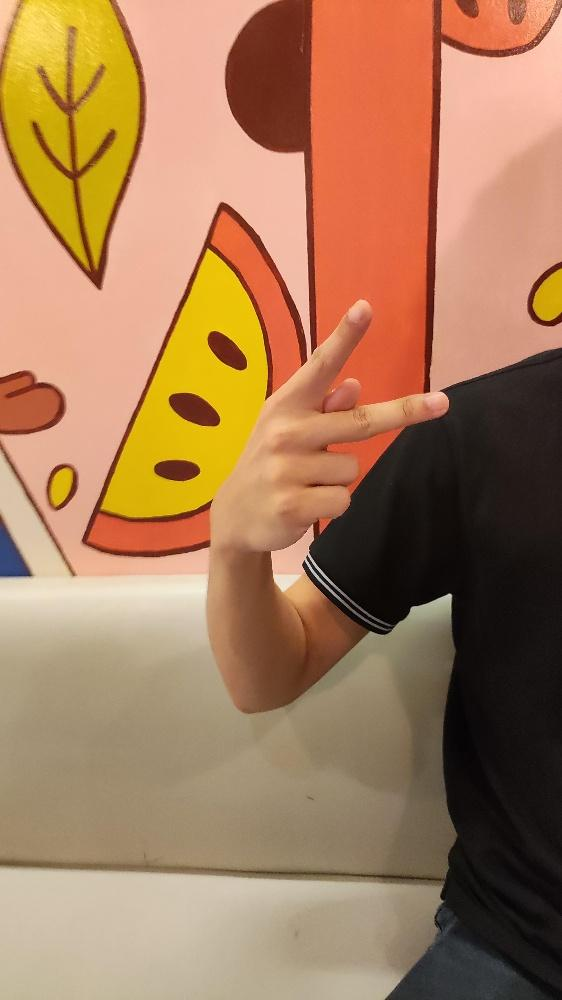k: (207, 298, 450, 555)
